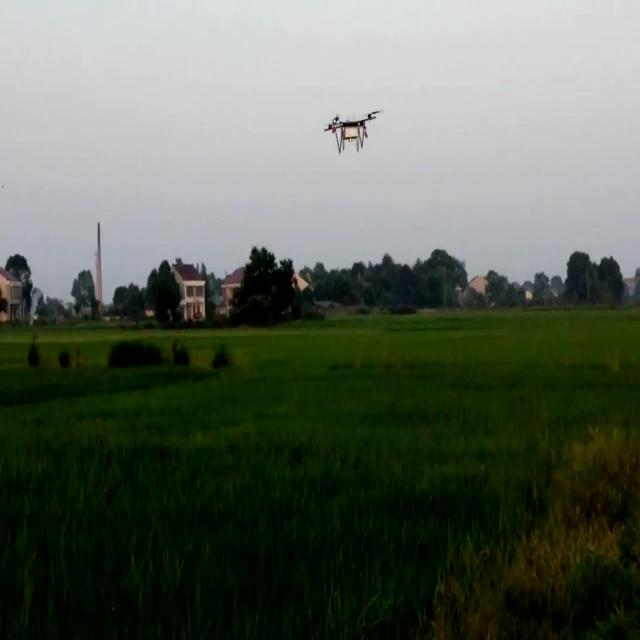drone: (323, 108, 380, 158)
